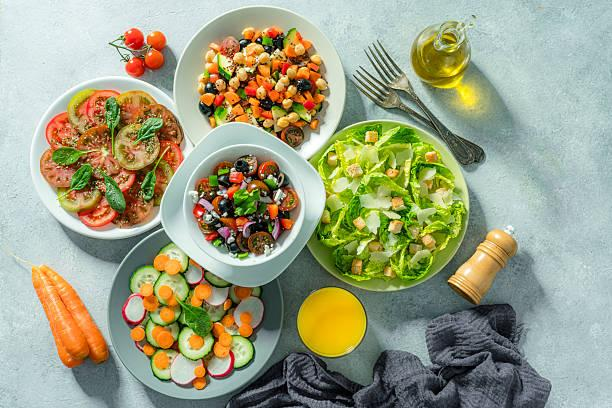Braised Crucian Carp: (106, 227, 284, 400), (304, 118, 468, 288), (168, 120, 325, 290), (174, 6, 342, 159), (28, 76, 181, 239)
